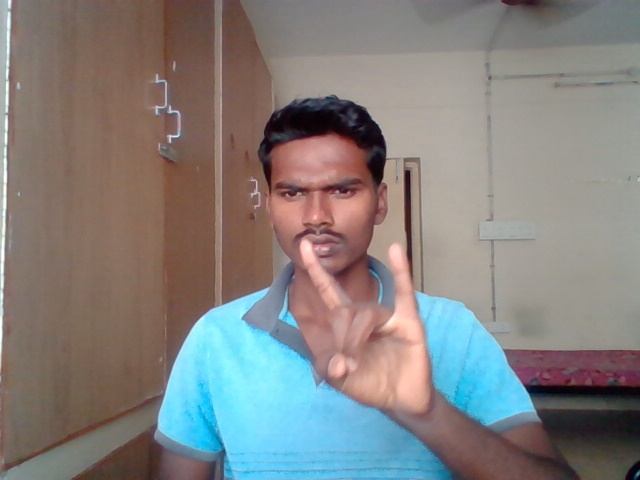I Love You: (297, 235, 434, 418)
